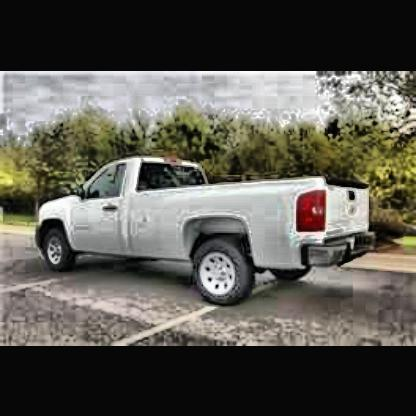Chevrolet Silverado 2500HD Regular Cab 2012: (39, 154, 380, 308)
